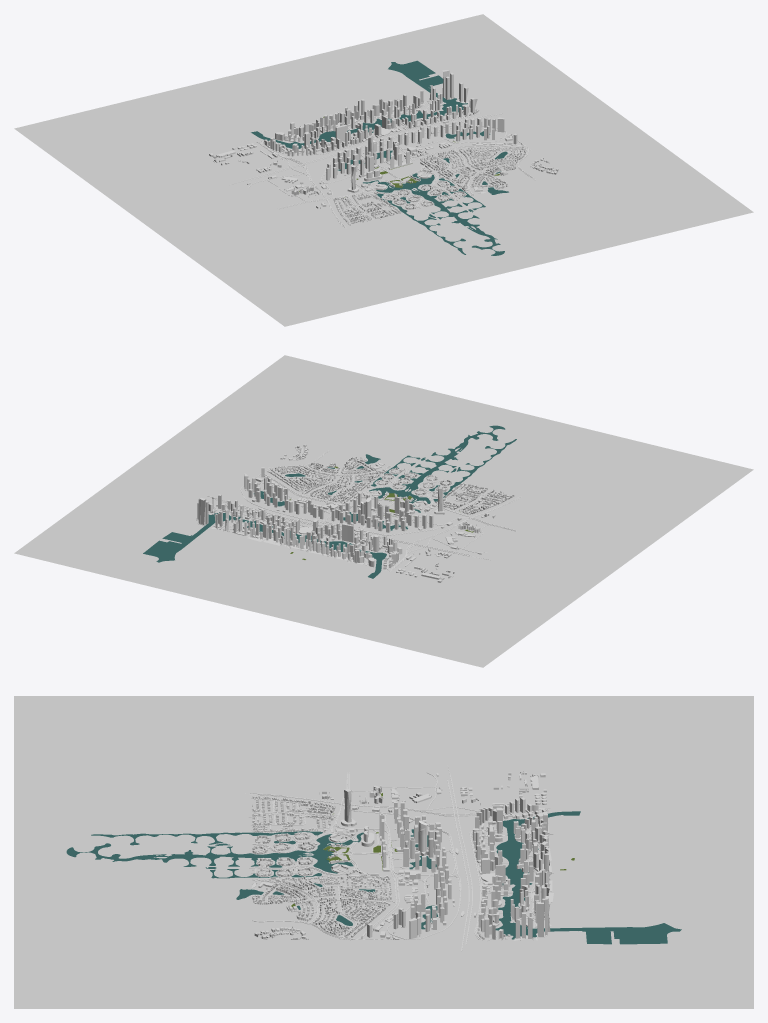
The model's file is Marriott_Residences_mini_map.glb.
3 renders of one model, top to bottom at view 1: azimuth 30°, elevation 25°; view 2: azimuth 150°, elevation 25°; view 3: azimuth 270°, elevation 25°, orthographic. The views are drawn at different scales.
Parts seen in each view (by area): view 1: land, build, road, water; view 2: land, build, water, road; view 3: land, build, water, road.
Boxes of the visible parts, x1,y1,x2,y2 form: land: (14, 14, 753, 326); build: (209, 70, 558, 225); road: (231, 97, 555, 227); water: (251, 60, 508, 255); land: (14, 355, 753, 667); build: (196, 444, 514, 582); water: (143, 425, 516, 578); road: (196, 447, 520, 571); land: (14, 696, 753, 1008); build: (251, 771, 553, 940); water: (66, 811, 681, 944); road: (245, 767, 553, 950).
Size of the model in its own units: 6310 by 355 by 6310.
Materials: 5 (1 with a texture image).
